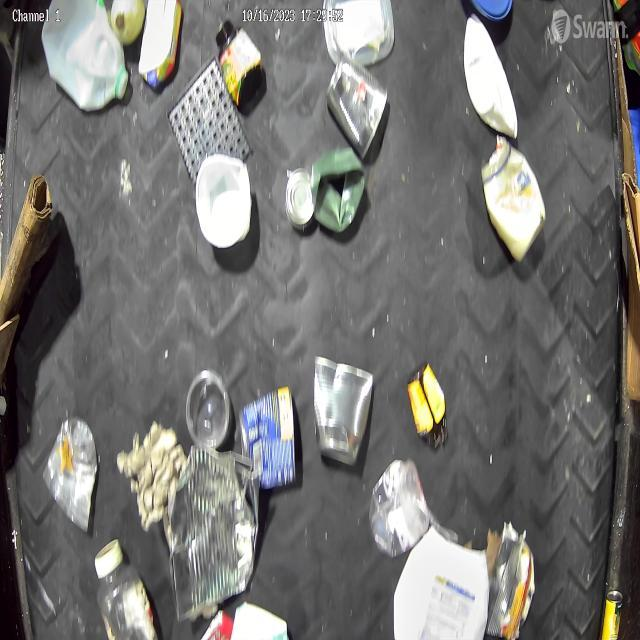can: (164, 446, 254, 603), (235, 384, 305, 496), (309, 350, 371, 468), (328, 61, 392, 172)
milk_jug: (385, 529, 493, 640), (38, 0, 129, 106)
